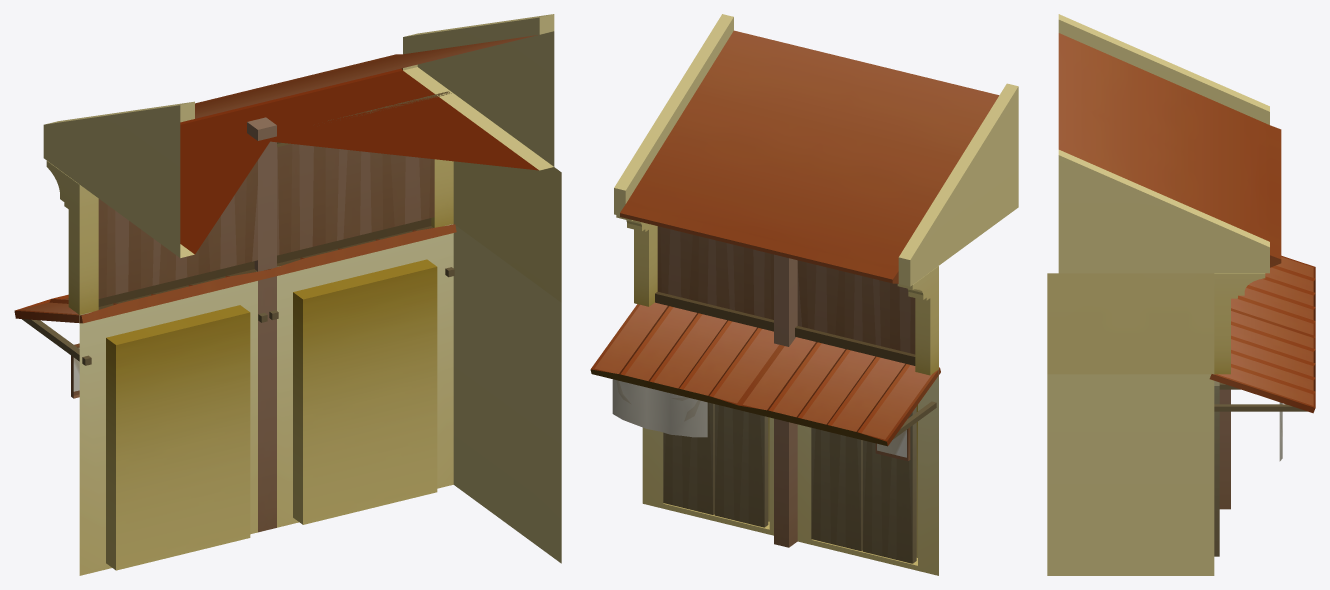
The model's file is SM_Facade_double_fuze_02.fbx.
3 renders of one model, left to right at view 1: azimuth 30°, elevation 25°; view 2: azimuth 150°, elevation 25°; view 3: azimuth 270°, elevation 25°, orthographic. The views are drawn at different scales.
Visible parts, largest first — view 1: SM_Facade_double_fuze_02; view 2: SM_Facade_double_fuze_02; view 3: SM_Facade_double_fuze_02.
Part boxes in pixels (x1,y1,x2,y2): SM_Facade_double_fuze_02: [14, 14, 561, 575]; SM_Facade_double_fuze_02: [590, 14, 1018, 575]; SM_Facade_double_fuze_02: [1047, 14, 1315, 575].
Bounding box in the file's own units: 600 × 835 × 482.
